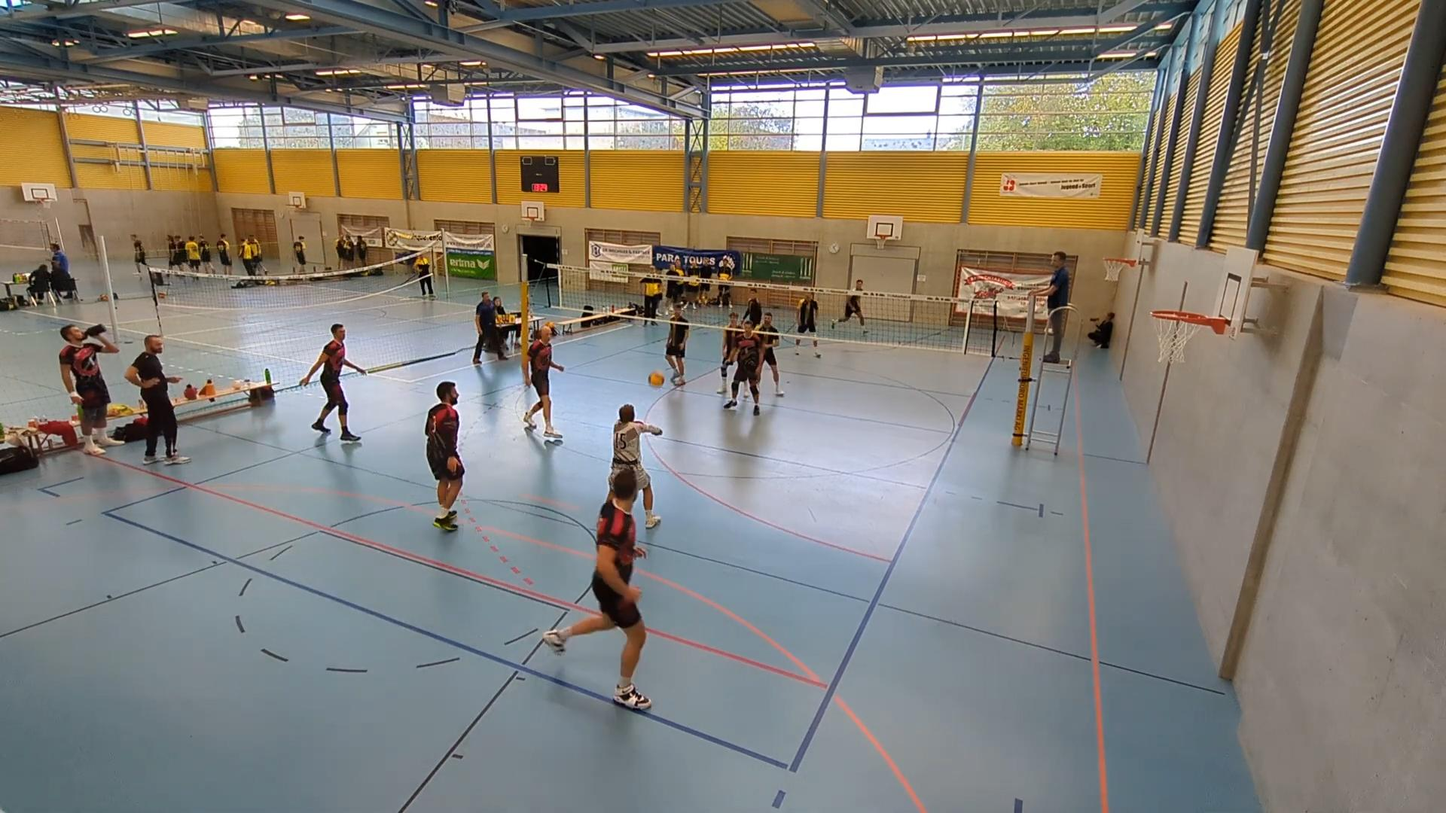Player: (542, 469, 650, 709), (300, 324, 365, 442), (426, 382, 464, 531), (523, 325, 563, 438), (724, 321, 761, 415), (755, 312, 784, 396), (717, 312, 741, 394), (665, 304, 689, 385), (795, 289, 820, 357), (831, 294, 867, 333), (744, 296, 761, 327)
Receive: (607, 402, 672, 533)
ball: (646, 371, 665, 385)
